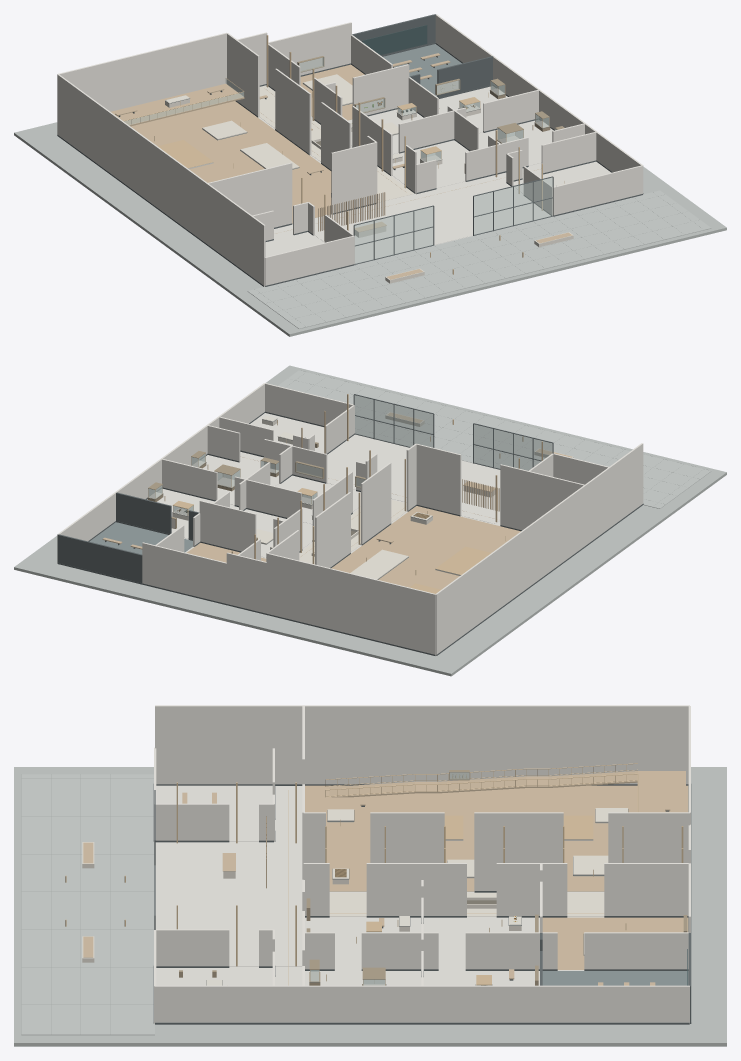
Rendered from museu.glb.
The picture shows the model from 3 angles, top to bottom: view 1: azimuth 30°, elevation 25°; view 2: azimuth 150°, elevation 25°; view 3: azimuth 270°, elevation 25°; orthographic projection. The views are drawn at different scales.
Visible parts, largest first — view 1: Museum_plaster, Museum_paving, Museum_terrazzo, Museum_oak, Museum_concrete, Museum_glass, Museum_charcoal, Museum_limestone, Museum_bronze, Museum_carpet, Museum_linen, Museum_screen (+2 smaller); view 2: Museum_plaster, Museum_concrete, Museum_paving, Museum_terrazzo, Museum_oak, Museum_charcoal, Museum_glass, Museum_limestone, Museum_bronze, Museum_carpet, Museum_linen, Museum_oakDark; view 3: Museum_plaster, Museum_paving, Museum_terrazzo, Museum_concrete, Museum_oak, Museum_limestone, Museum_bronze, Museum_charcoal, Museum_carpet, Museum_joint, Museum_oakDark, Museum_linen.
Boxes of the visible parts, x1,y1,x2,y2 form: Museum_plaster: (57, 14, 643, 286); Museum_paving: (247, 190, 711, 328); Museum_terrazzo: (258, 86, 611, 263); Museum_oak: (111, 53, 572, 279); Museum_concrete: (14, 122, 726, 336); Museum_glass: (124, 57, 556, 263); Museum_charcoal: (57, 14, 643, 286); Museum_limestone: (165, 74, 577, 283); Museum_bronze: (123, 35, 564, 274); Museum_carpet: (383, 44, 461, 96); Museum_linen: (166, 58, 576, 185); Museum_screen: (362, 25, 427, 55); Museum_plaster: (57, 383, 643, 655); Museum_concrete: (14, 365, 726, 676); Museum_paving: (278, 370, 711, 508); Museum_terrazzo: (147, 413, 500, 558); Museum_oak: (102, 412, 571, 589); Museum_charcoal: (57, 394, 643, 655); Museum_glass: (148, 395, 552, 515); Museum_limestone: (172, 412, 573, 579); Museum_bronze: (148, 394, 542, 593); Museum_carpet: (90, 522, 192, 554); Museum_linen: (149, 416, 431, 547); Museum_oakDark: (147, 442, 365, 540); Museum_plaster: (154, 705, 690, 1023); Museum_paving: (21, 774, 154, 1035); Museum_terrazzo: (155, 785, 604, 985); Museum_concrete: (14, 767, 726, 1046); Museum_oak: (83, 771, 688, 985); Museum_limestone: (82, 808, 627, 985); Museum_bronze: (65, 763, 683, 985); Museum_charcoal: (153, 784, 691, 1024); Museum_carpet: (542, 971, 688, 985); Museum_joint: (21, 774, 153, 1034); Museum_oakDark: (179, 770, 687, 985); Museum_linen: (207, 772, 520, 985).
Size of the model in its own units: 0.9167 by 0.1286 by 1.
